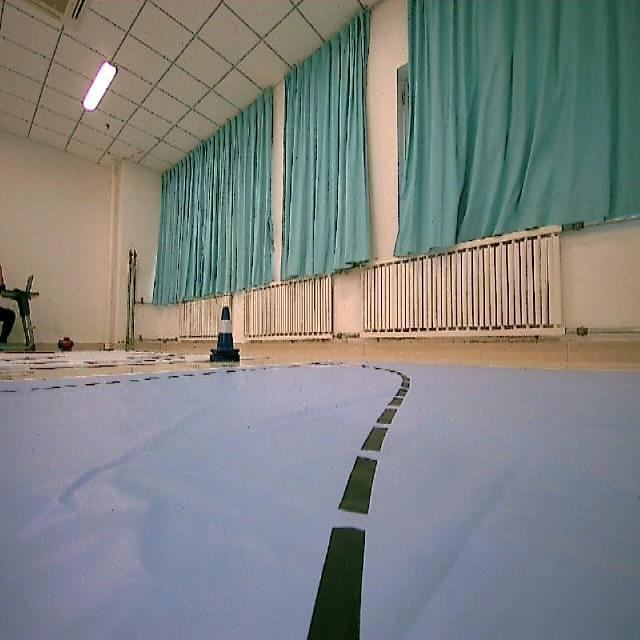obstacle: (204, 300, 238, 368)
